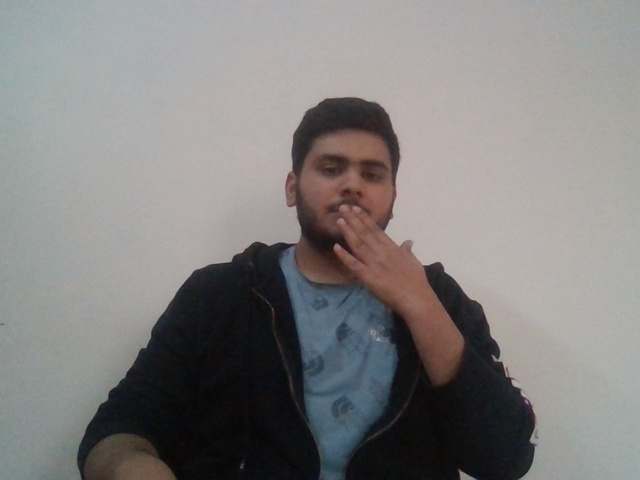Thanks: (304, 195, 431, 302)
